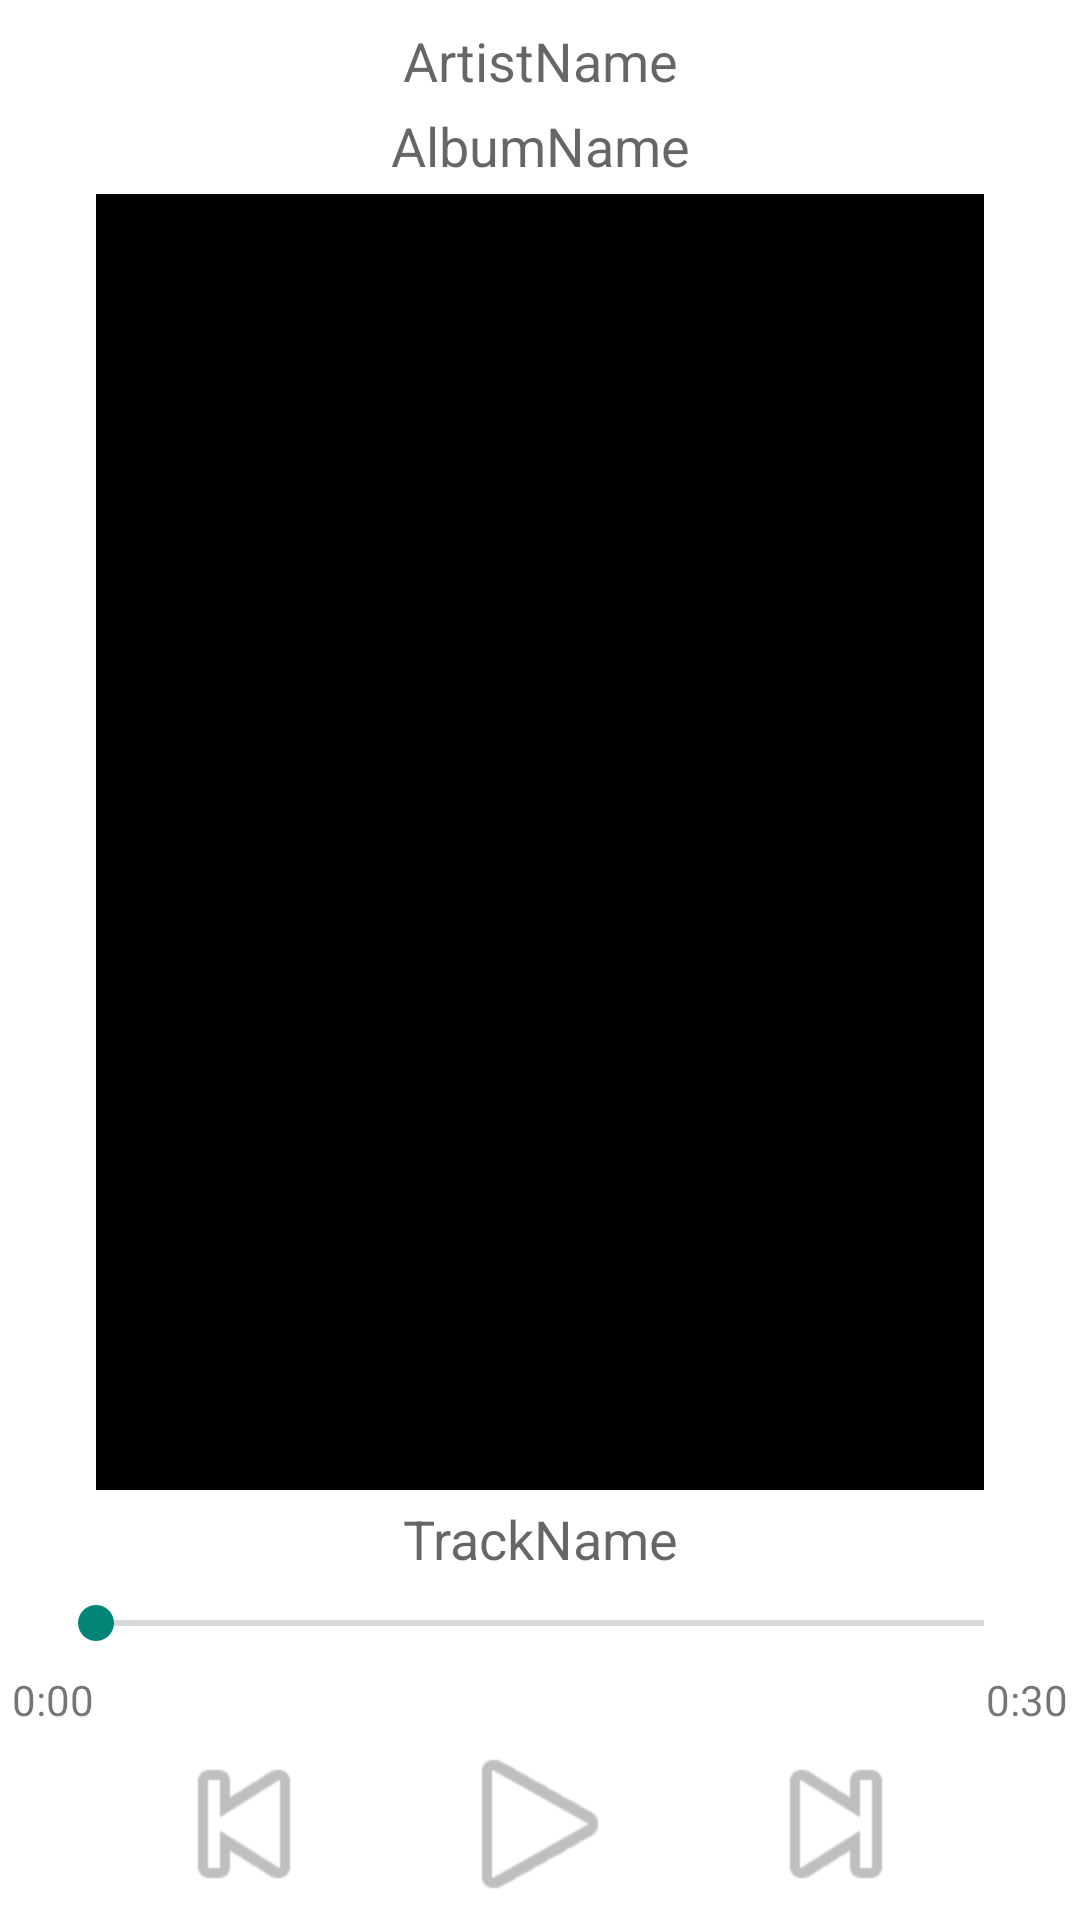

Icon bounding boxes for this 1080 x 1920 phone screenshot, format [x1=x1, y1=y1, x2=x2, y2=y2]:
next: [x1=790, y1=1770, x2=882, y2=1878]
play: [x1=482, y1=1760, x2=598, y2=1888]
previous: [x1=198, y1=1770, x2=290, y2=1878]
